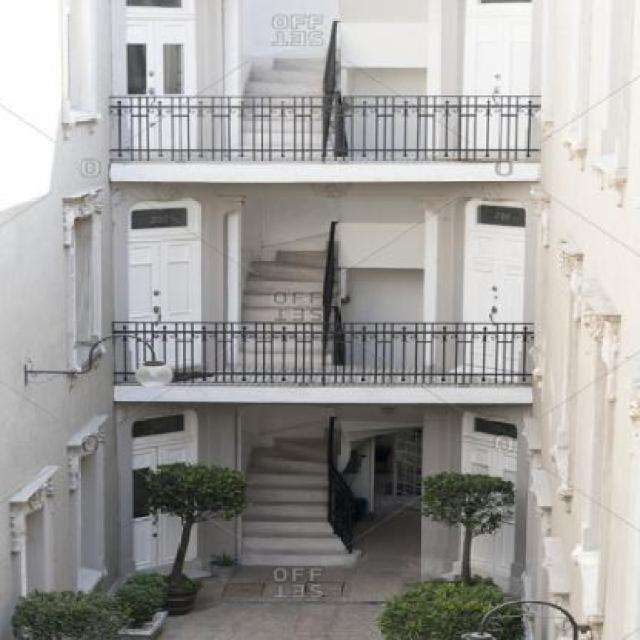stair: (218, 415, 380, 580), (214, 224, 364, 378), (241, 39, 347, 184)
